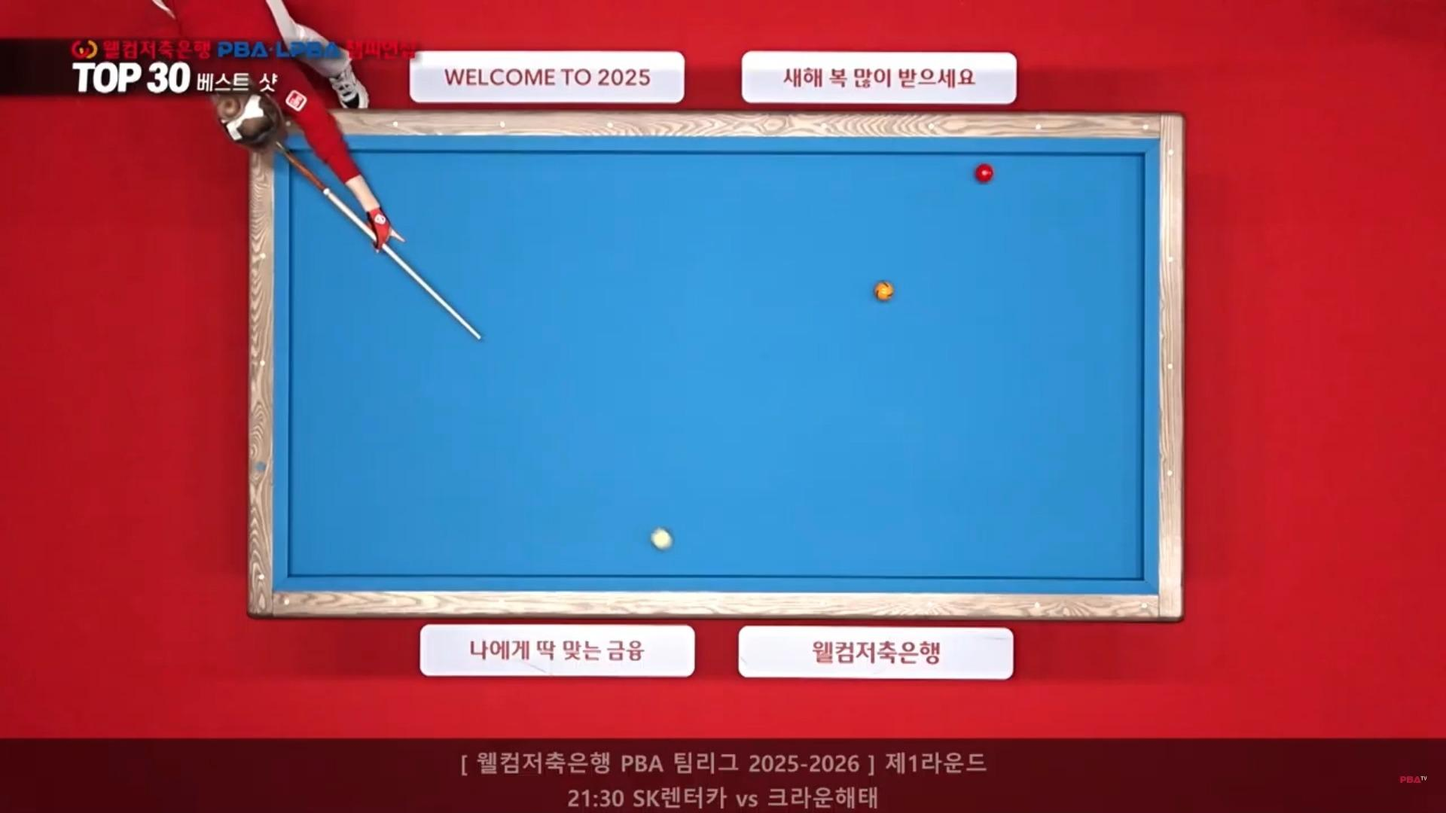Red: (971, 166, 994, 185)
White: (649, 528, 674, 551)
billiard-ball-Yellow: (876, 283, 895, 301)
